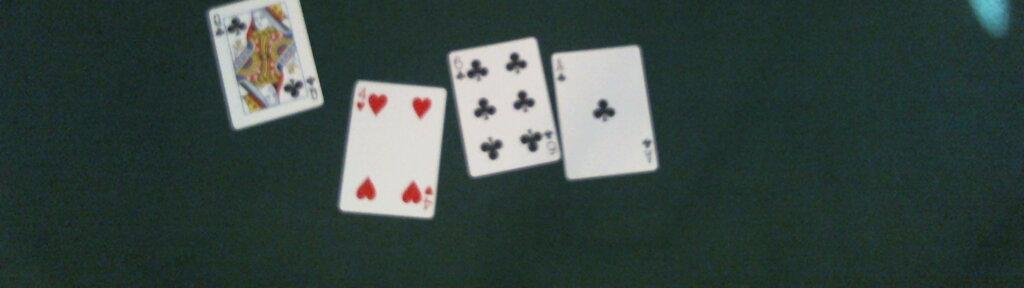ace: (551, 45, 659, 180)
four: (338, 80, 446, 219)
queen: (208, 1, 324, 130)
six: (447, 35, 563, 177)
